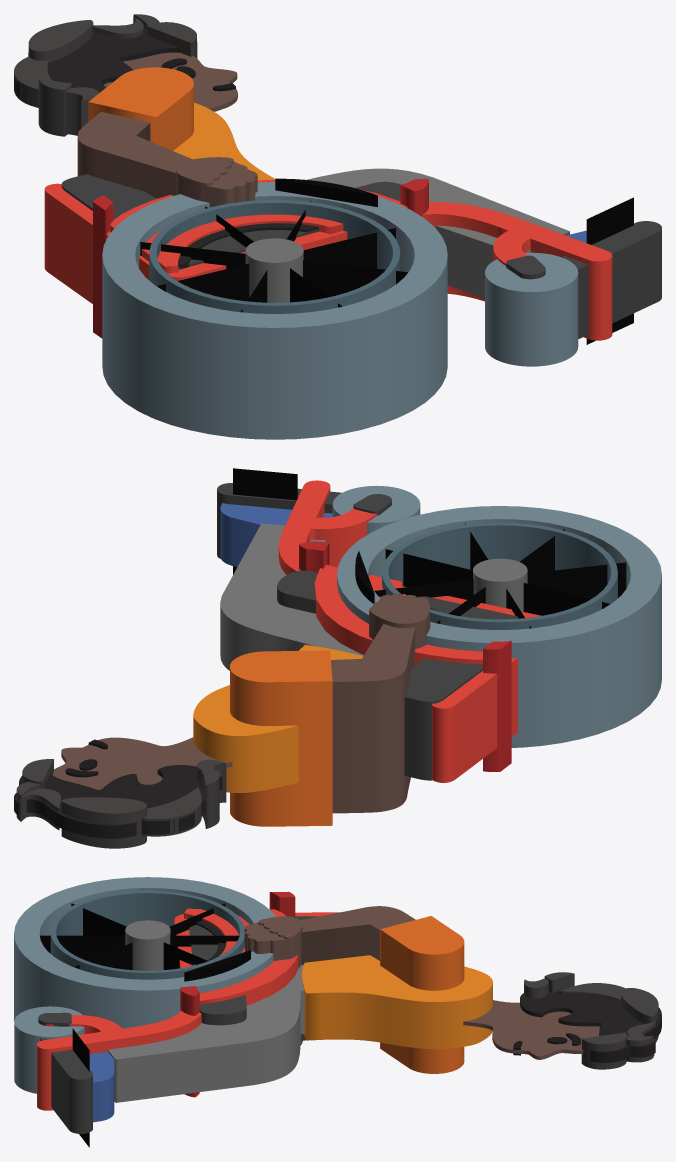
File: emoji_u1f9d1_1f3ff_200d_1f9bd_200d_27a1.glb
3 views of the same model, one above another, from view 1: azimuth 30°, elevation 25°; view 2: azimuth 150°, elevation 25°; view 3: azimuth 270°, elevation 25° (orthographic). The views are drawn at different scales.
Visible parts, largest first — view 1: emoji_u1f9d1_1f3ff_200d_1f9bd_200d_27a1; view 2: emoji_u1f9d1_1f3ff_200d_1f9bd_200d_27a1; view 3: emoji_u1f9d1_1f3ff_200d_1f9bd_200d_27a1.
Part boxes in pixels (x1,y1,x2,y2): emoji_u1f9d1_1f3ff_200d_1f9bd_200d_27a1: (14, 14, 661, 439); emoji_u1f9d1_1f3ff_200d_1f9bd_200d_27a1: (14, 468, 661, 848); emoji_u1f9d1_1f3ff_200d_1f9bd_200d_27a1: (14, 877, 661, 1147).
Size of the model in its own units: 0.0221 by 0.0066 by 0.0325.
